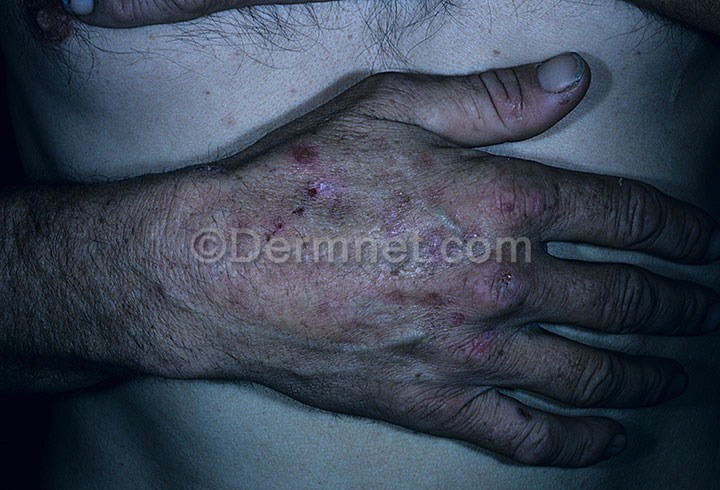Melasma: (246, 115, 523, 234), (289, 263, 549, 376)
